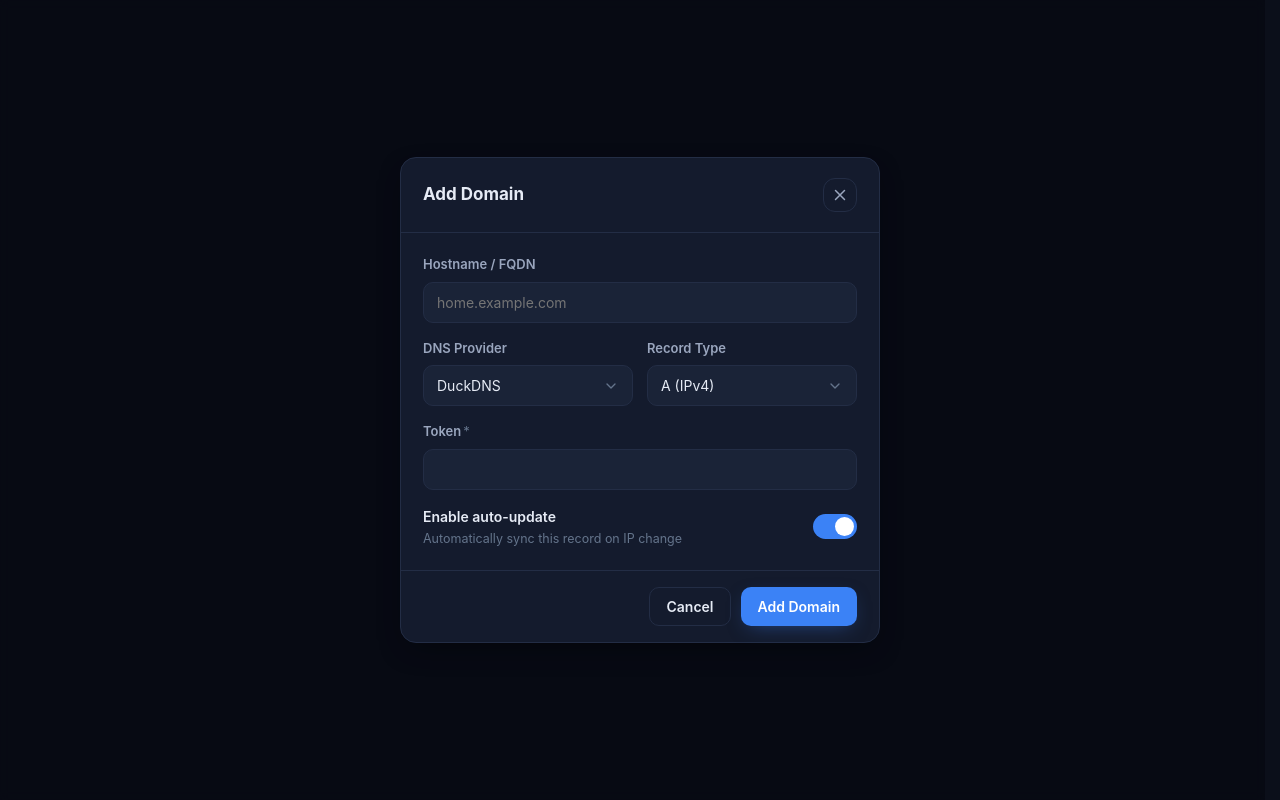
Test: DomainModal › shows server field errors on hostname, record type and provider config
Click the button "Add Domain" at {"x": 799, "y": 607}, box [740,587,857,626]
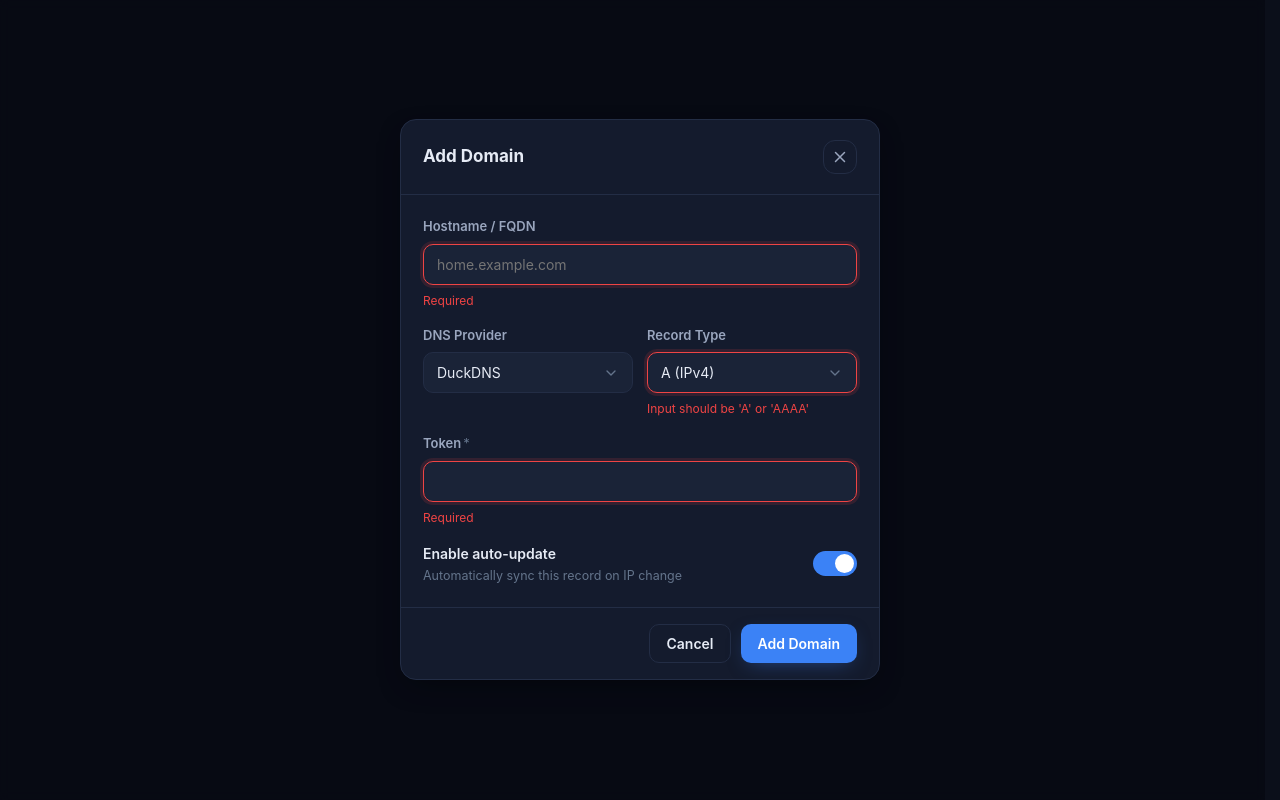
Check: the text "Required" is shown 2 times, box [423,293,474,308]; [423,510,474,525]
